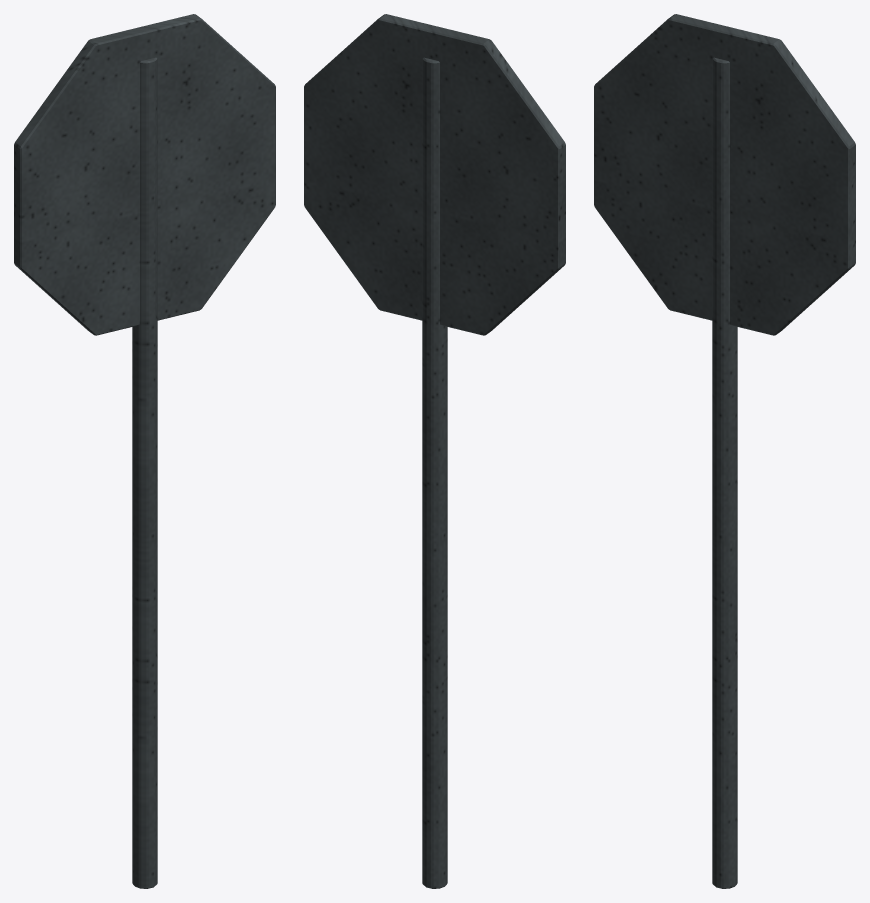
File: PROP-3F00E4E46820_lod1.glb
3 renders of one model, left to right at view 1: azimuth 30°, elevation 25°; view 2: azimuth 150°, elevation 25°; view 3: azimuth 330°, elevation 25°, orthographic.
Visible parts, largest first — view 1: shaped_sign_plate.009, sign_post.031; view 2: shaped_sign_plate.009, sign_post.031; view 3: shaped_sign_plate.009, sign_post.031.
Part boxes in pixels (<box>): shaped_sign_plate.009: <box>14,14,275,335</box>; sign_post.031: <box>132,57,157,888</box>; shaped_sign_plate.009: <box>304,14,565,335</box>; sign_post.031: <box>422,57,447,888</box>; shaped_sign_plate.009: <box>594,14,855,335</box>; sign_post.031: <box>712,57,737,888</box>.
Size of the model in its own units: 0.7927 by 2.53 by 0.0666.
1 material, 1 textured.
